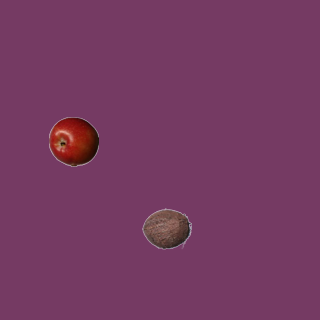Apple Braeburn: (48, 116, 98, 166)
Cocos: (141, 203, 191, 253)
